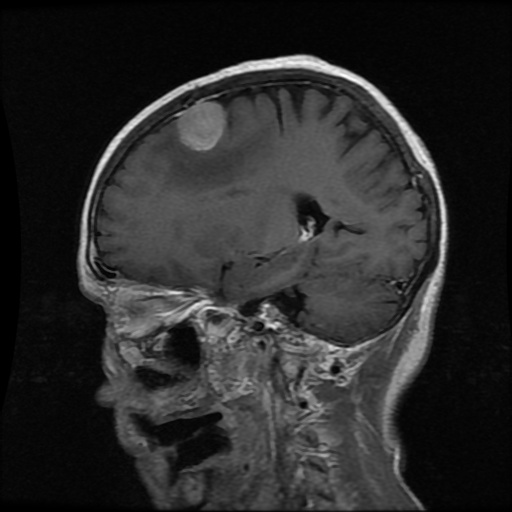meningioma: (177, 101, 226, 150)
